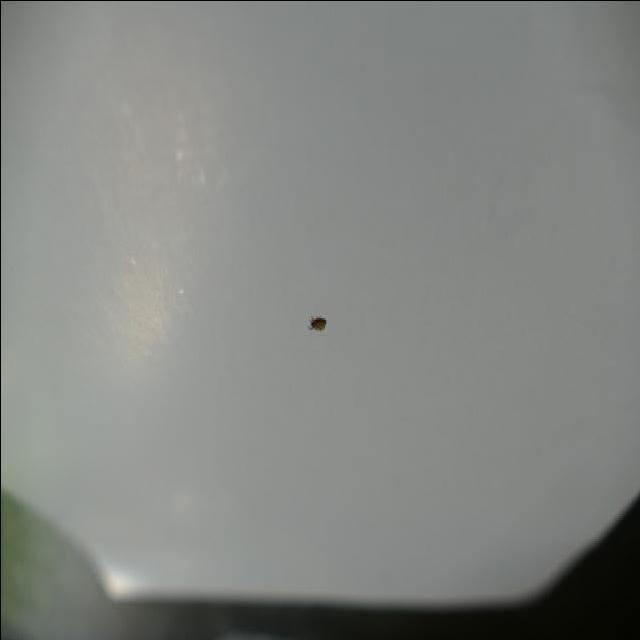Ixodes Ricinus-F: (308, 317, 326, 332)
